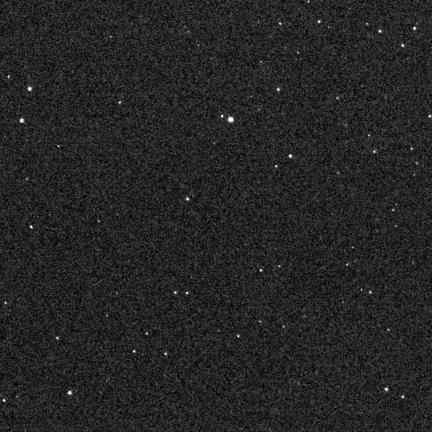blob: (20, 118, 24, 123), (229, 117, 233, 122), (289, 154, 293, 159), (413, 27, 417, 31), (385, 388, 389, 392), (28, 87, 32, 91), (174, 291, 178, 295), (68, 391, 72, 395), (186, 198, 190, 202), (30, 226, 34, 230), (277, 88, 281, 92), (165, 352, 168, 357), (133, 350, 136, 354), (402, 395, 405, 399), (379, 30, 382, 33), (186, 292, 189, 295), (318, 20, 321, 23), (275, 165, 278, 168), (260, 269, 263, 272), (237, 335, 240, 337), (402, 44, 404, 47)
